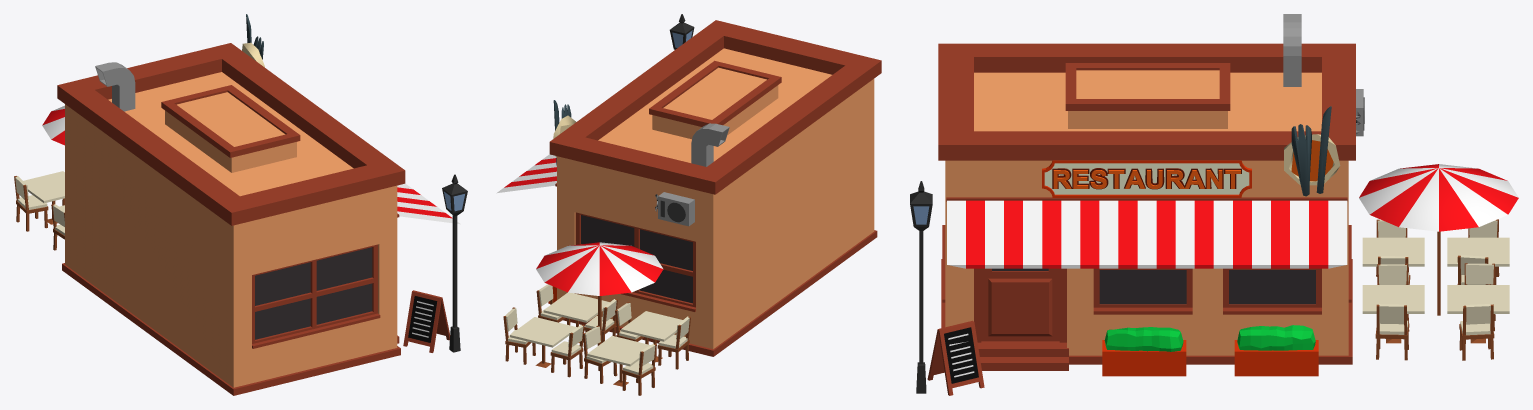
Rendered from restaurant_pack-BHP4eWeJ.glb.
3 renders of one model, left to right at view 1: azimuth 30°, elevation 25°; view 2: azimuth 150°, elevation 25°; view 3: azimuth 270°, elevation 25°, orthographic. The views are drawn at different scales.
Parts seen in each view (by area): view 1: RestaurantBuilding_RestaurantBuilding_Cube.003_Cube.001; view 2: RestaurantBuilding_RestaurantBuilding_Cube.003_Cube.001; view 3: RestaurantBuilding_RestaurantBuilding_Cube.003_Cube.001.
Part boxes in pixels (box(x1,y1,x2,y2)): RestaurantBuilding_RestaurantBuilding_Cube.003_Cube.001: box(14, 14, 467, 395); RestaurantBuilding_RestaurantBuilding_Cube.003_Cube.001: box(496, 14, 881, 395); RestaurantBuilding_RestaurantBuilding_Cube.003_Cube.001: box(910, 14, 1518, 395).
Size of the model in its own units: 2.85 by 2.57 by 5.38.
Materials: 1 (1 with a texture image).
